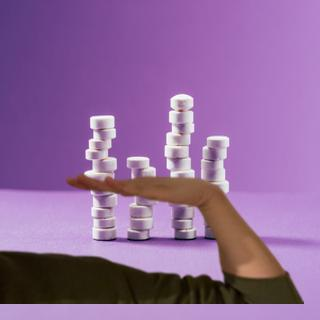WAIT: (64, 168, 221, 209)
